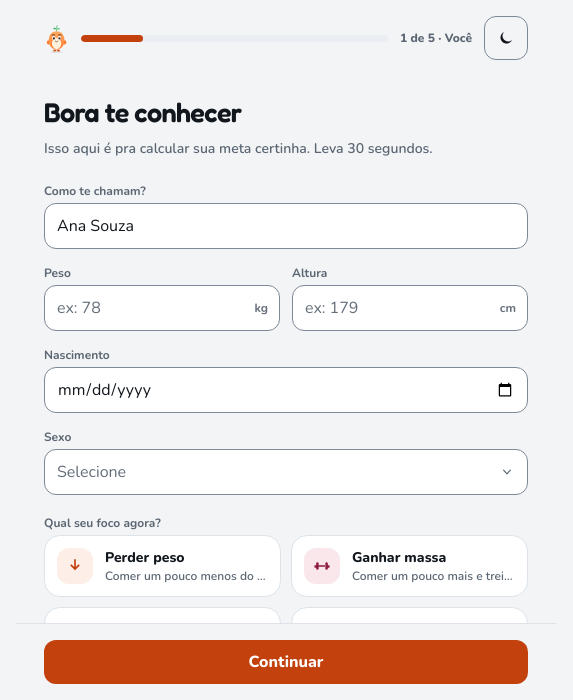
Scenario: OnboardingPage step 1 › refuses to advance with the form empty, and says which fields are missing
The image size is (573, 700).
Clear the field labelled "Como te chamam?" at (286, 226), box [44,202,528,248]
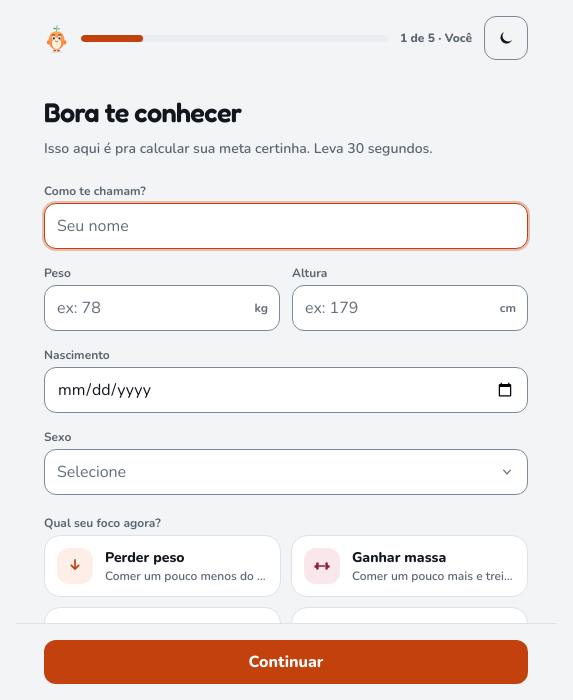
Click the button "Continuar".
click(286, 662)  # box [44,640,528,684]
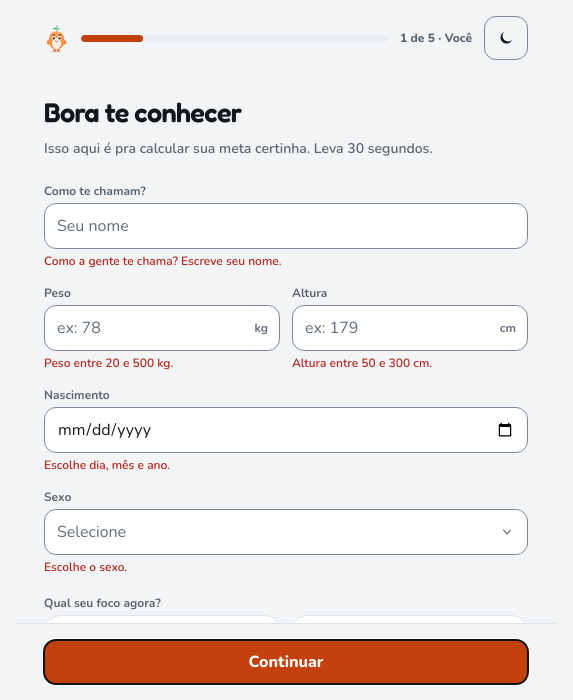
Now the message "Como a gente te chama? Escreve seu nome." is shown, box [44,252,282,268]
Now the message "Peso entre 20 e 500 kg." is shown, box [44,354,173,370]
Now the message "Altura entre 50 e 300 cm." is shown, box [292,354,432,370]
